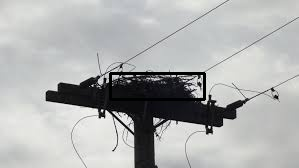bird-nest: (110, 73, 204, 99)
